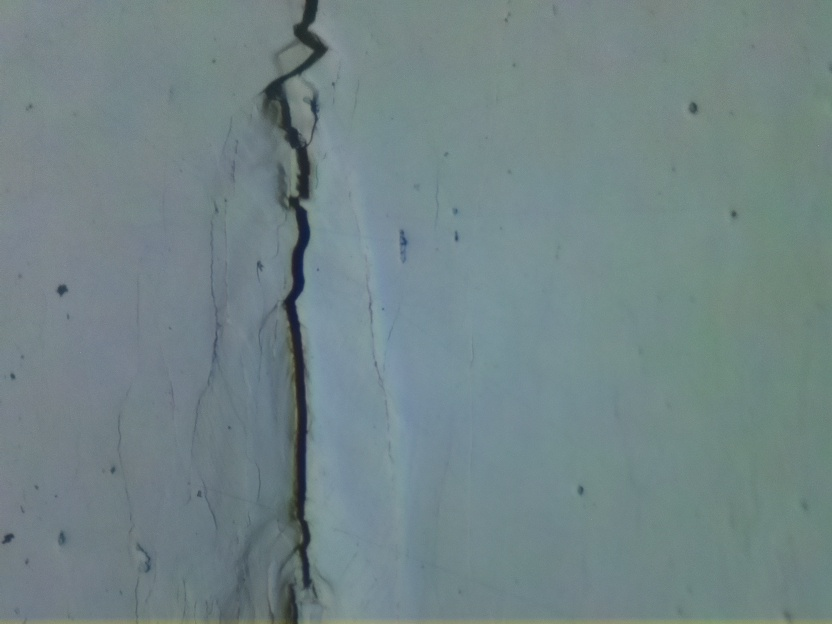crack: (265, 0, 335, 599), (278, 581, 311, 624)
